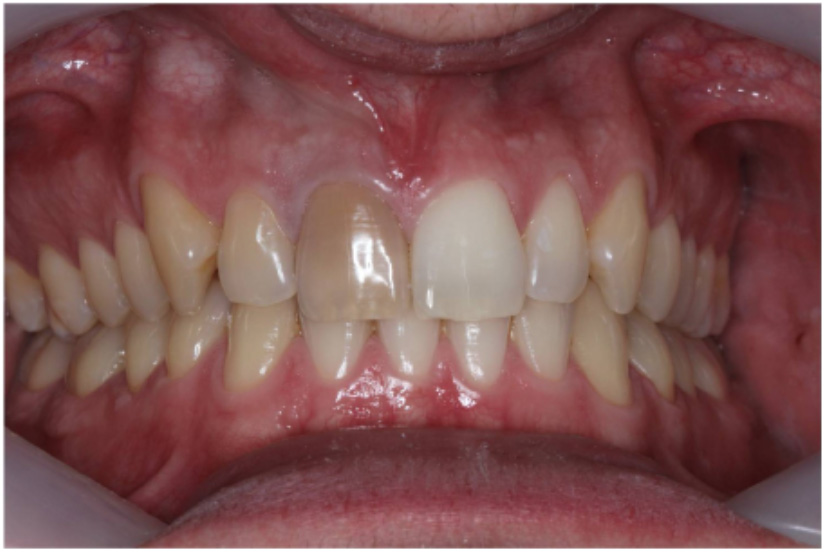LL1BC_healthy: (569, 316, 627, 397)
LL1M_healthy: (667, 335, 695, 400)
LL2BC_healthy: (632, 322, 671, 397)
LLCI_healthy: (376, 321, 433, 389)
LLC_healthy: (518, 306, 571, 383)
LLLI_healthy: (453, 318, 508, 388)
LR1BC_healthy: (130, 324, 167, 388)
LR2BC_healthy: (75, 330, 118, 391)
LRCI_healthy: (307, 321, 366, 385)
LRC_healthy: (169, 315, 219, 367)
LRLI_healthy: (232, 303, 303, 394)
UL1BC_healthy: (637, 217, 680, 315)
ULCI_healthy: (409, 169, 524, 318)
ULC_healthy: (582, 169, 641, 315)
ULLI_healthy: (524, 176, 592, 306)
UR1BC_healthy: (112, 222, 171, 318)
UR1M_healthy: (36, 239, 98, 333)
UR2BC_healthy: (76, 232, 127, 323)
UR2M_healthy: (3, 251, 46, 335)
URCI_healthy: (296, 172, 413, 319)
URC_healthy: (148, 175, 217, 316)
URLI_healthy: (216, 189, 295, 305)
